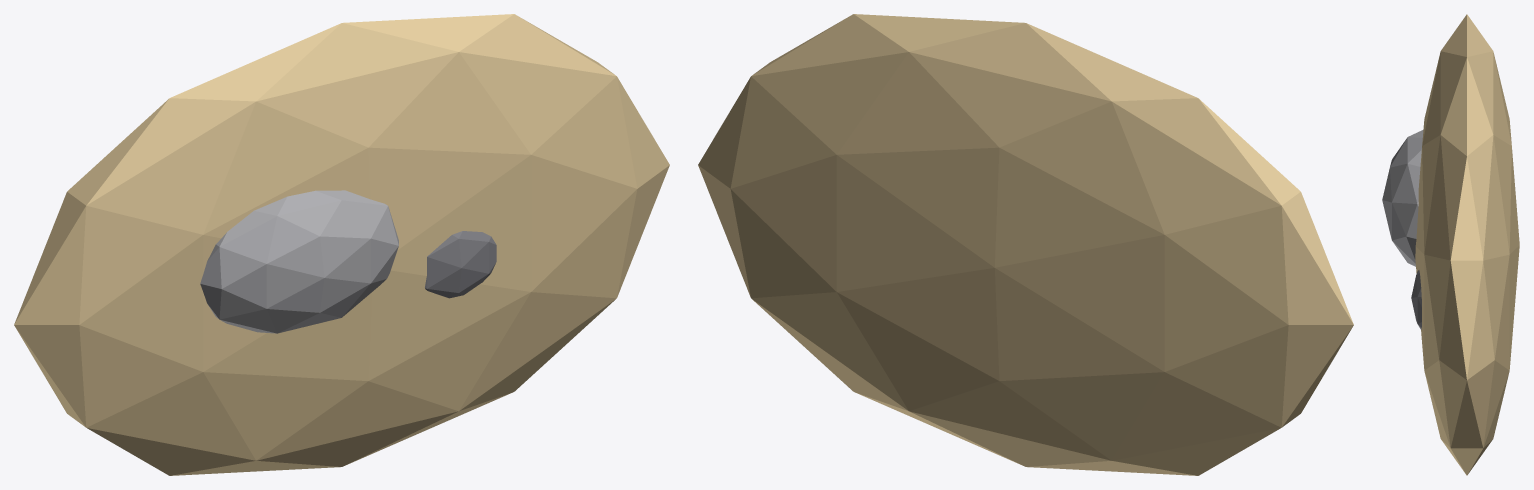
File: desert_dune_rock.glb
3 renders of one model, left to right at view 1: azimuth 30°, elevation 25°; view 2: azimuth 150°, elevation 25°; view 3: azimuth 270°, elevation 25°, orthographic. The views are drawn at different scales.
Visible parts, largest first — view 1: sand_mound, rock_a, rock_b; view 2: sand_mound; view 3: sand_mound, rock_a, rock_b.
Part boxes in pixels (bbox=[...]): sand_mound: bbox=[14, 14, 669, 475]; rock_a: bbox=[200, 190, 398, 333]; rock_b: bbox=[425, 231, 496, 298]; sand_mound: bbox=[698, 14, 1353, 475]; sand_mound: bbox=[1415, 14, 1519, 475]; rock_a: bbox=[1382, 130, 1423, 266]; rock_b: bbox=[1411, 270, 1421, 329].
Size of the model in its own units: 3.4 by 2.2 by 0.73.
